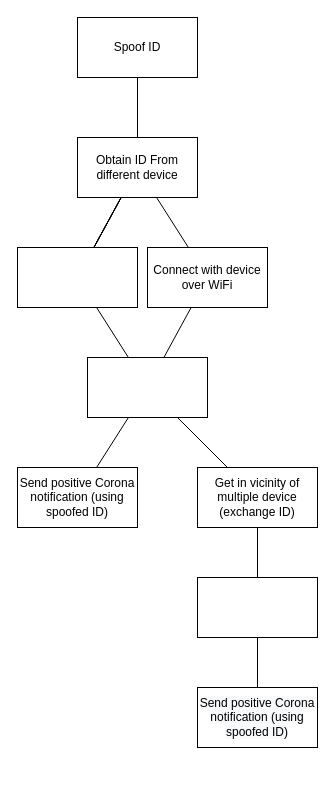
Image size: 335x785. Some labels were removed from this diagram. The centre of each missing label's shape, as x and y in pixels:
"Connect with device over Bluetooth" goes at pixel 77 277.
"Connect with multiple device" goes at pixel 257 607.
"Copy ID" goes at pixel 147 387.
